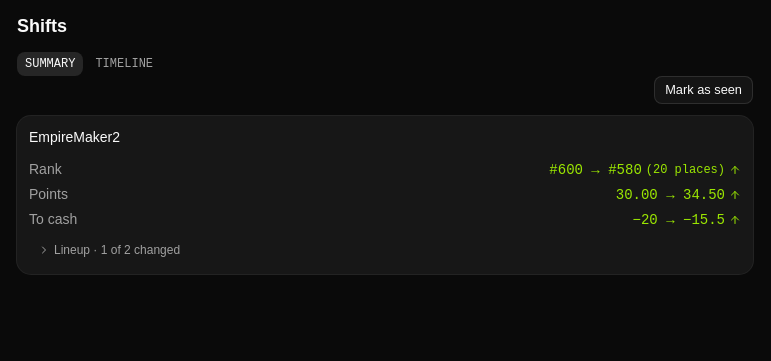
Scenario: the lineup diff on a VIP card › shows a still-hidden slot with a lock and "Still hidden", and no points, status or name
The width and height of the screenshot is (771, 361).
Expected: the heading "Shifts" is shown, top-left (17, 16), bottom-right (67, 36)
Click the button "Lineup · 1 of 2 changed": (77, 250) top-left (29, 238), bottom-right (741, 262)
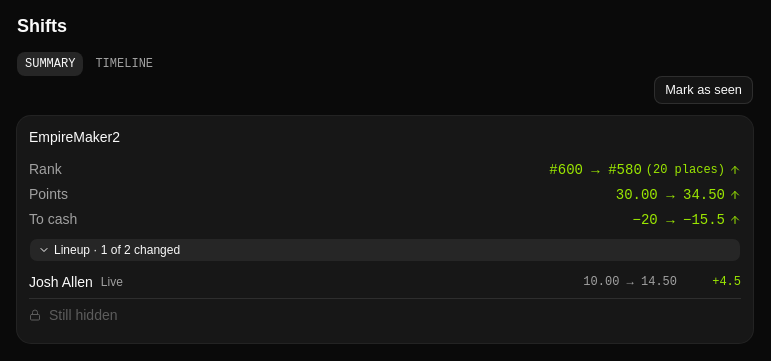
Now the picture named "Still locked" is shown, box top-left (29, 309), bottom-right (41, 321)
Now the text "Still hidden" is shown, box top-left (49, 305), bottom-right (118, 325)
